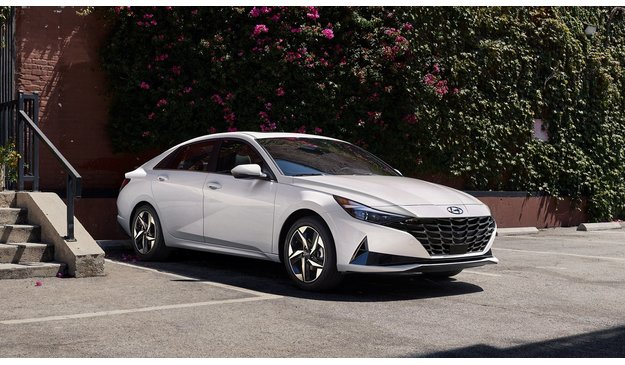car: (115, 131, 499, 292)
